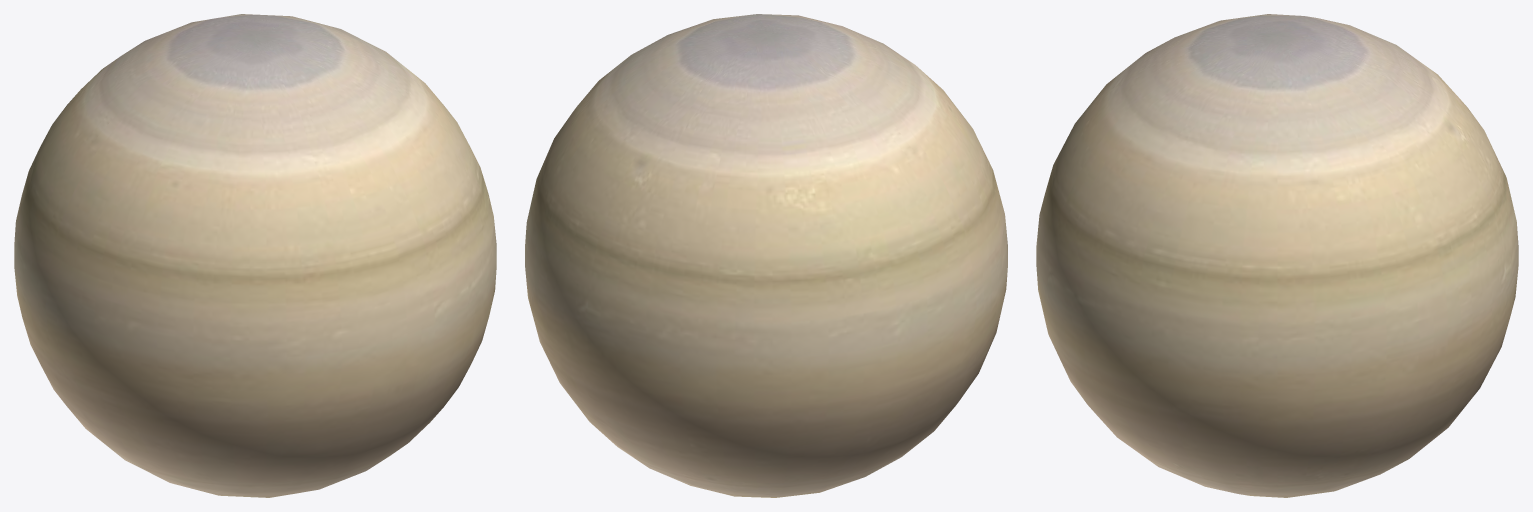
Rendered from saturn.obj.
The picture shows the model from 3 angles, left to right: view 1: azimuth 30°, elevation 25°; view 2: azimuth 150°, elevation 25°; view 3: azimuth 270°, elevation 25°; orthographic projection.
Size of the model in its own units: 2 by 2 by 1.99.
1 material, 1 textured.
